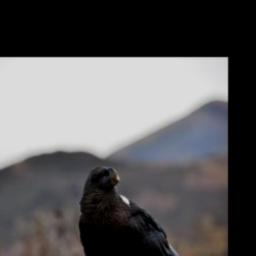Crow: (77, 163, 189, 256)
